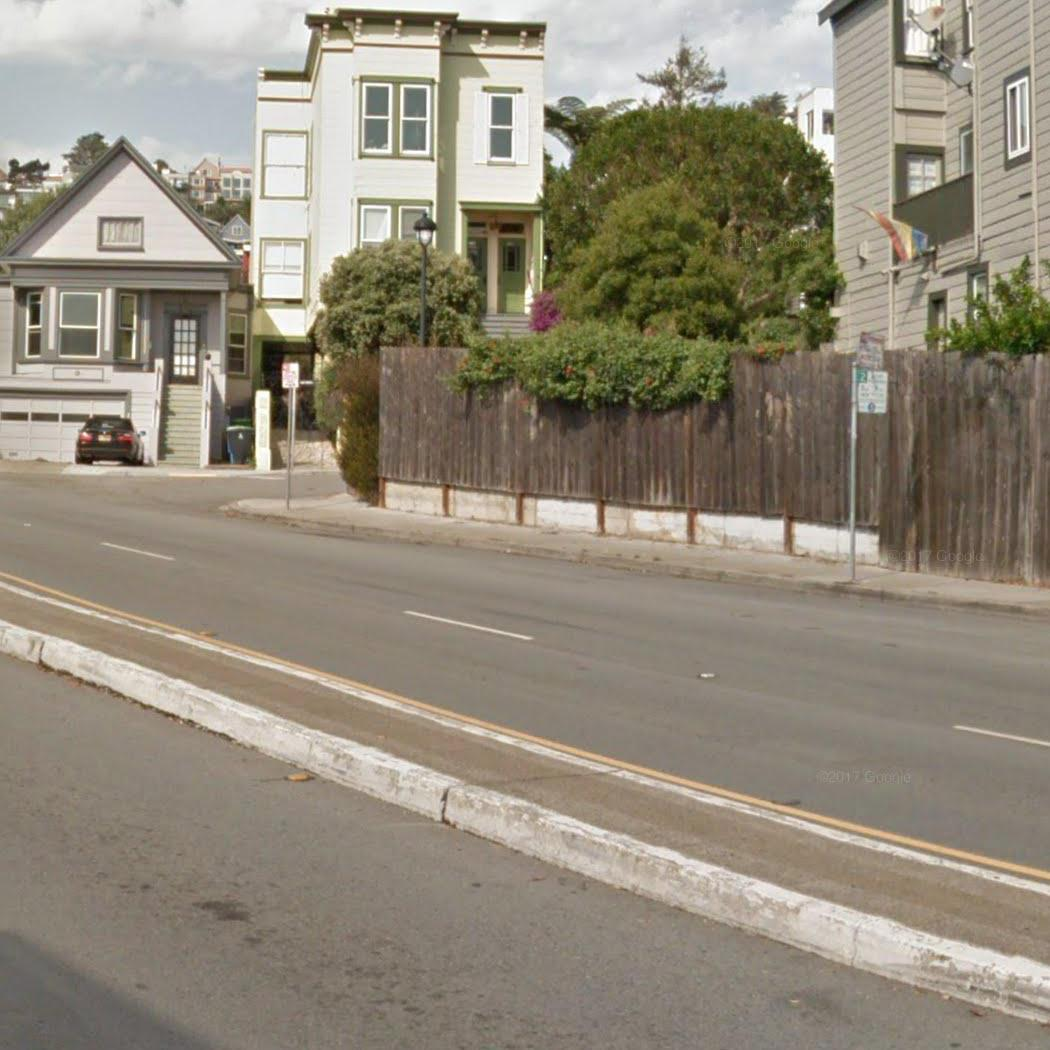2 Hour Parking: (849, 365, 899, 418)
No Parking: (278, 358, 304, 392)
